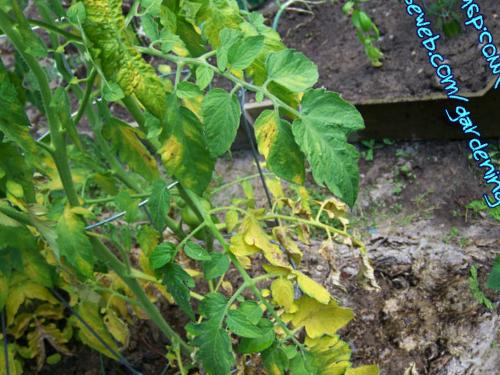Tomato leaf yellow virus: (273, 72, 399, 226), (136, 78, 244, 214), (164, 279, 267, 375), (230, 95, 319, 197), (43, 194, 114, 291), (254, 37, 321, 102)
